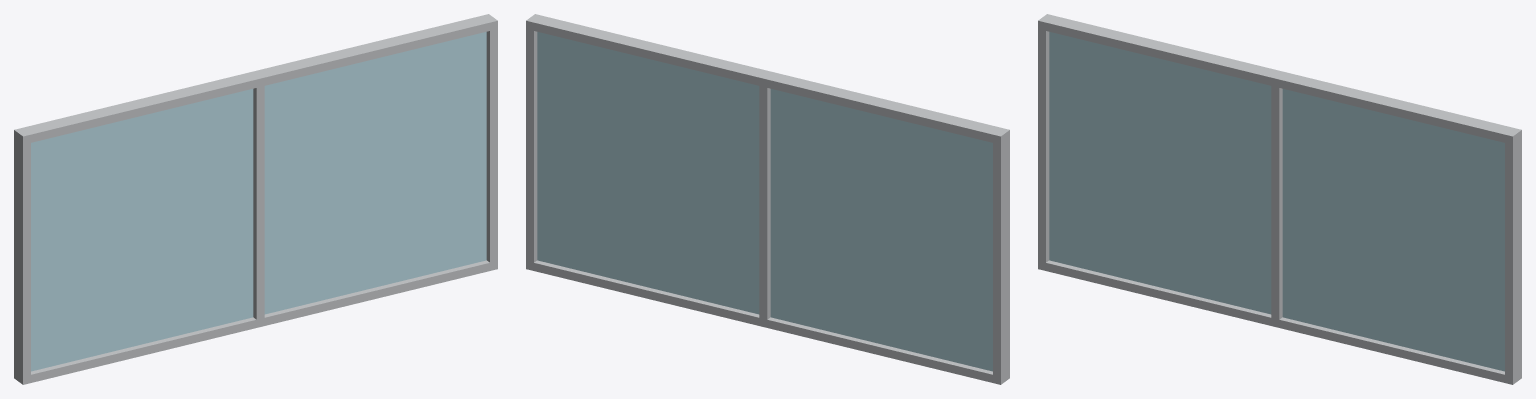
Rendered from opening.window.fixed_3000x1500.glb.
The picture shows the model from 3 angles, left to right: view 1: azimuth 30°, elevation 25°; view 2: azimuth 150°, elevation 25°; view 3: azimuth 330°, elevation 25°; orthographic projection.
Visible parts, largest first — view 1: glazing__glass, frame__aluminium; view 2: glazing__glass, frame__aluminium; view 3: glazing__glass, frame__aluminium.
Part boxes in pixels (box(x1,y1,x2,y2)): glazing__glass: box(31, 32, 486, 371); frame__aluminium: box(14, 14, 497, 384); glazing__glass: box(537, 32, 992, 371); frame__aluminium: box(526, 14, 1009, 384); glazing__glass: box(1049, 32, 1504, 371); frame__aluminium: box(1038, 14, 1521, 384).
Size of the model in its own units: 3 by 1.5 by 0.1.
